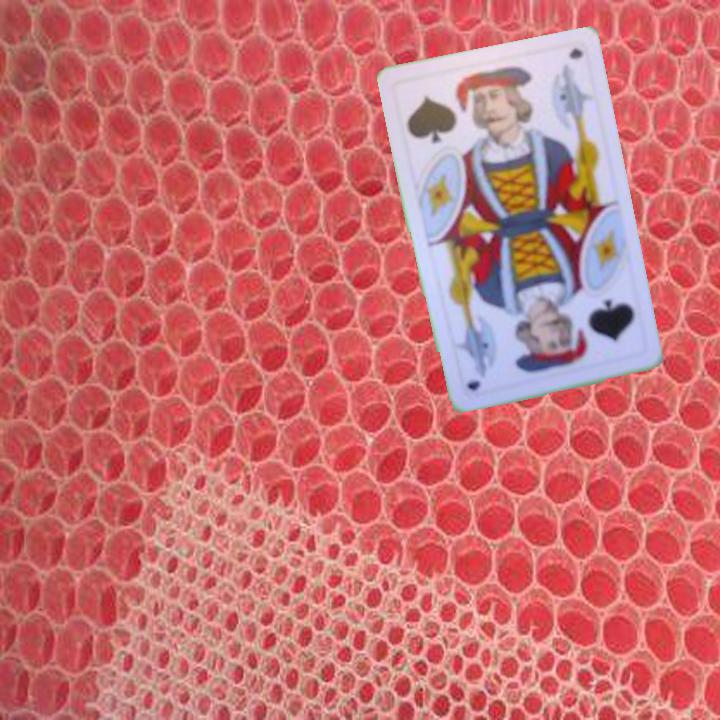s_j.png: (532, 275, 646, 378), (394, 62, 507, 165)
